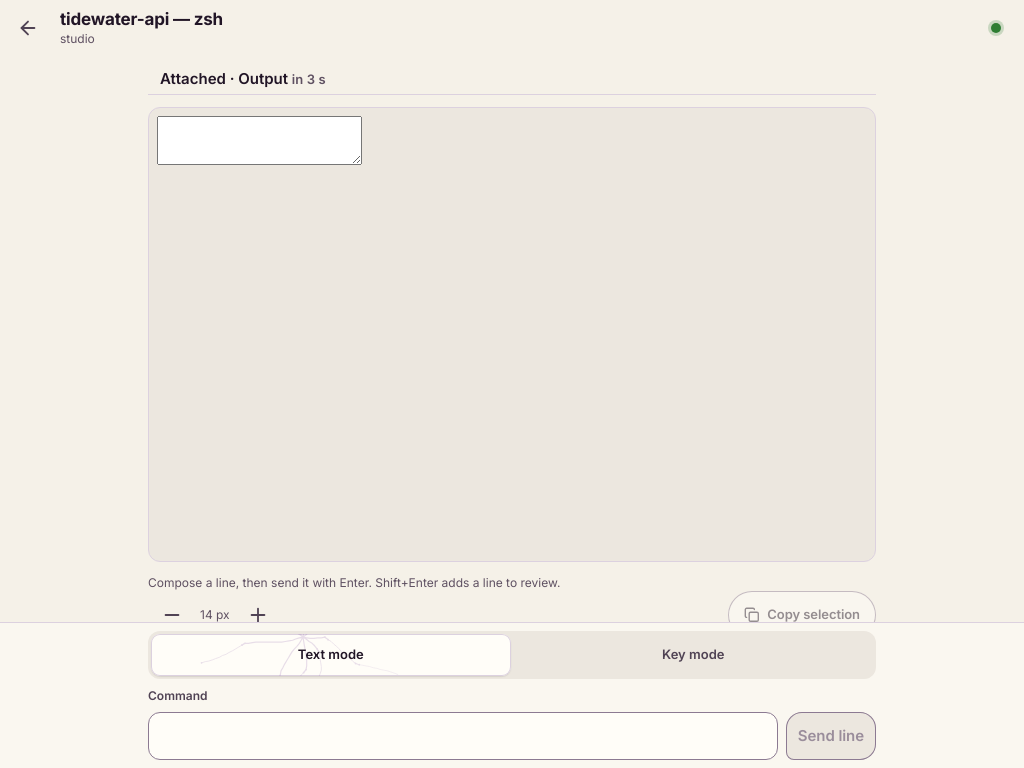
it: Send line exit ends the simulated session and keeps its output view
In the text box named "Command for": (463, 736) left=148, top=712, right=778, bottom=760, type "exit 7"
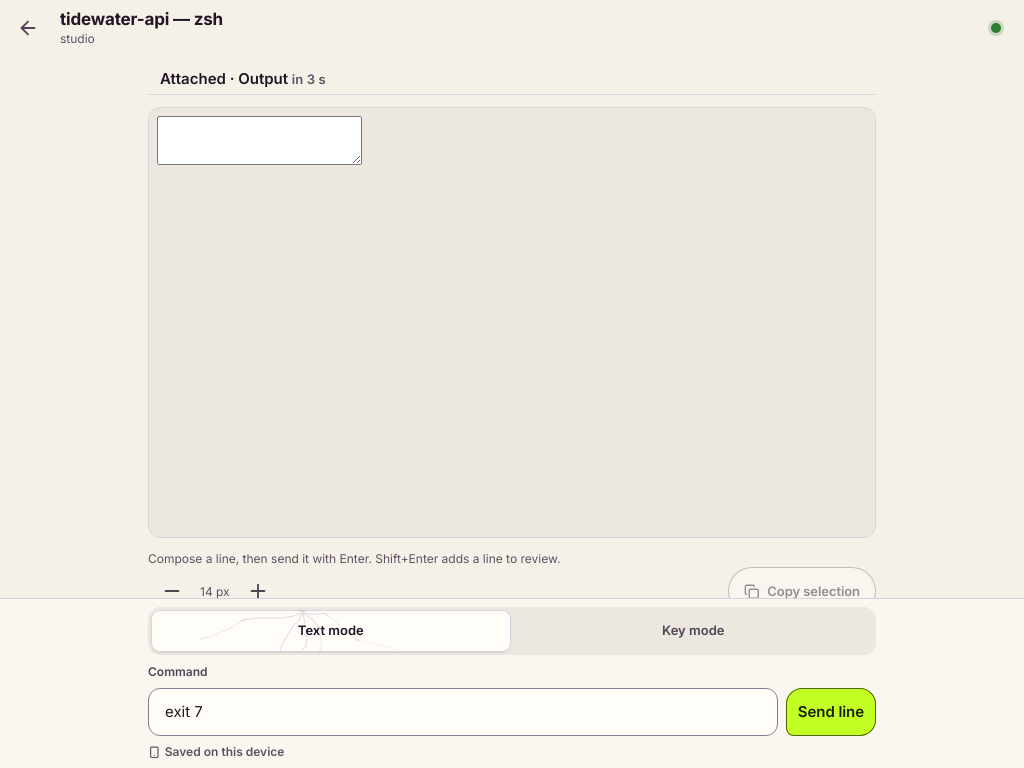
Click the button "Send line": (831, 712) left=786, top=688, right=876, bottom=736
Wait 500 ms
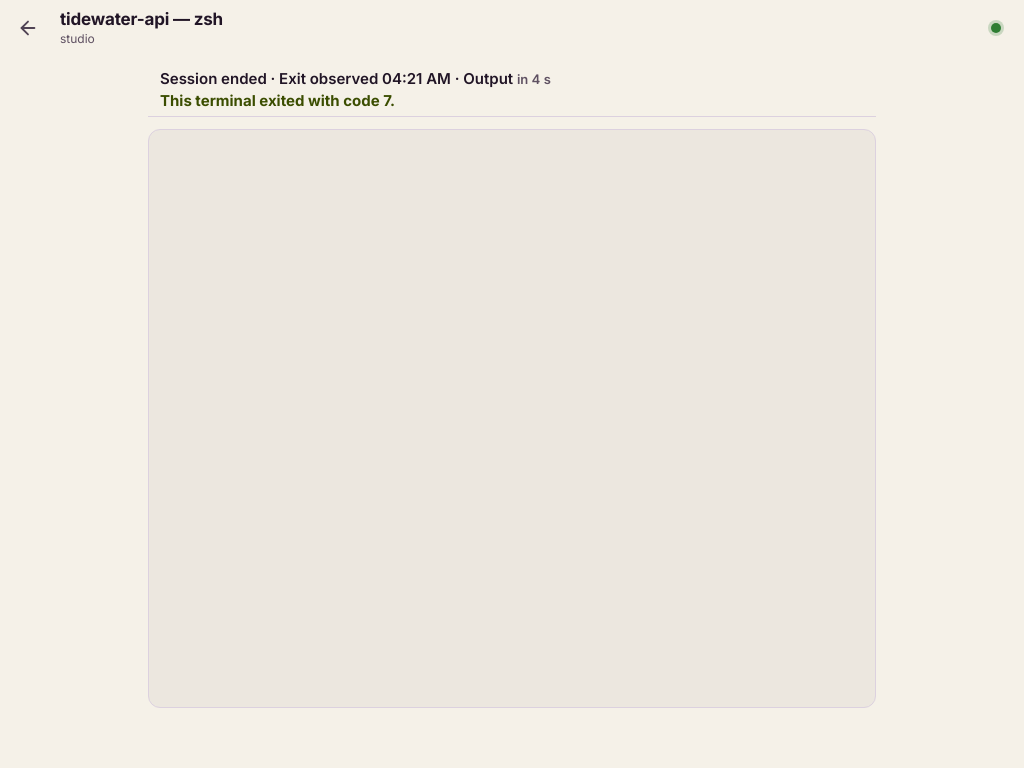
Result: the text "Session ended · Exit observed 04:21 AM · Output in 4 s" is shown at left=160, top=69, right=551, bottom=88
Result: the text "This terminal exited with code 7." is shown at left=160, top=91, right=395, bottom=110
